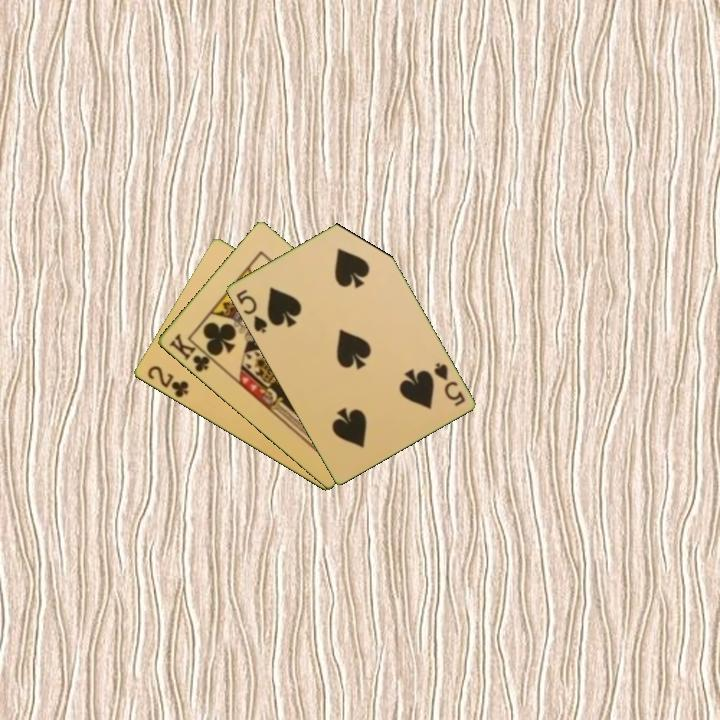2c: (143, 362, 191, 401)
5s: (232, 285, 270, 336), (430, 359, 468, 409)
Kc: (165, 330, 218, 375)
